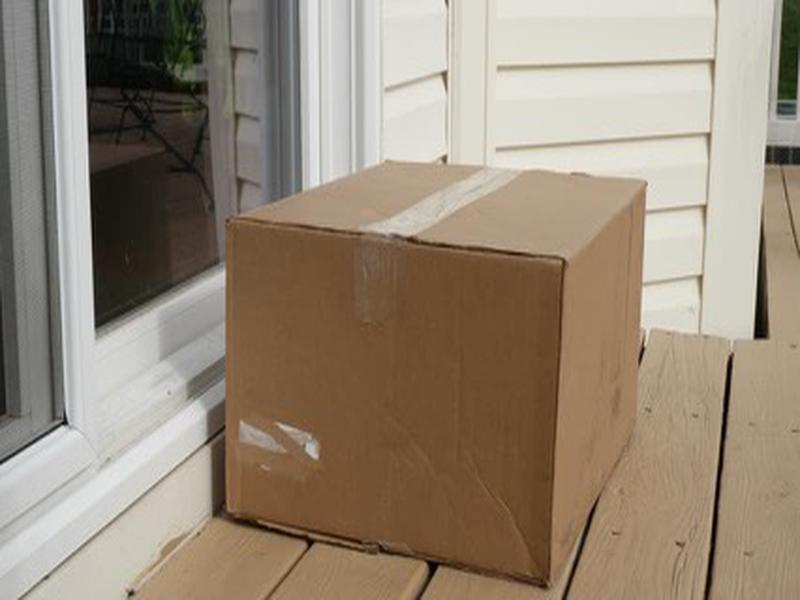package: (213, 149, 656, 592)
